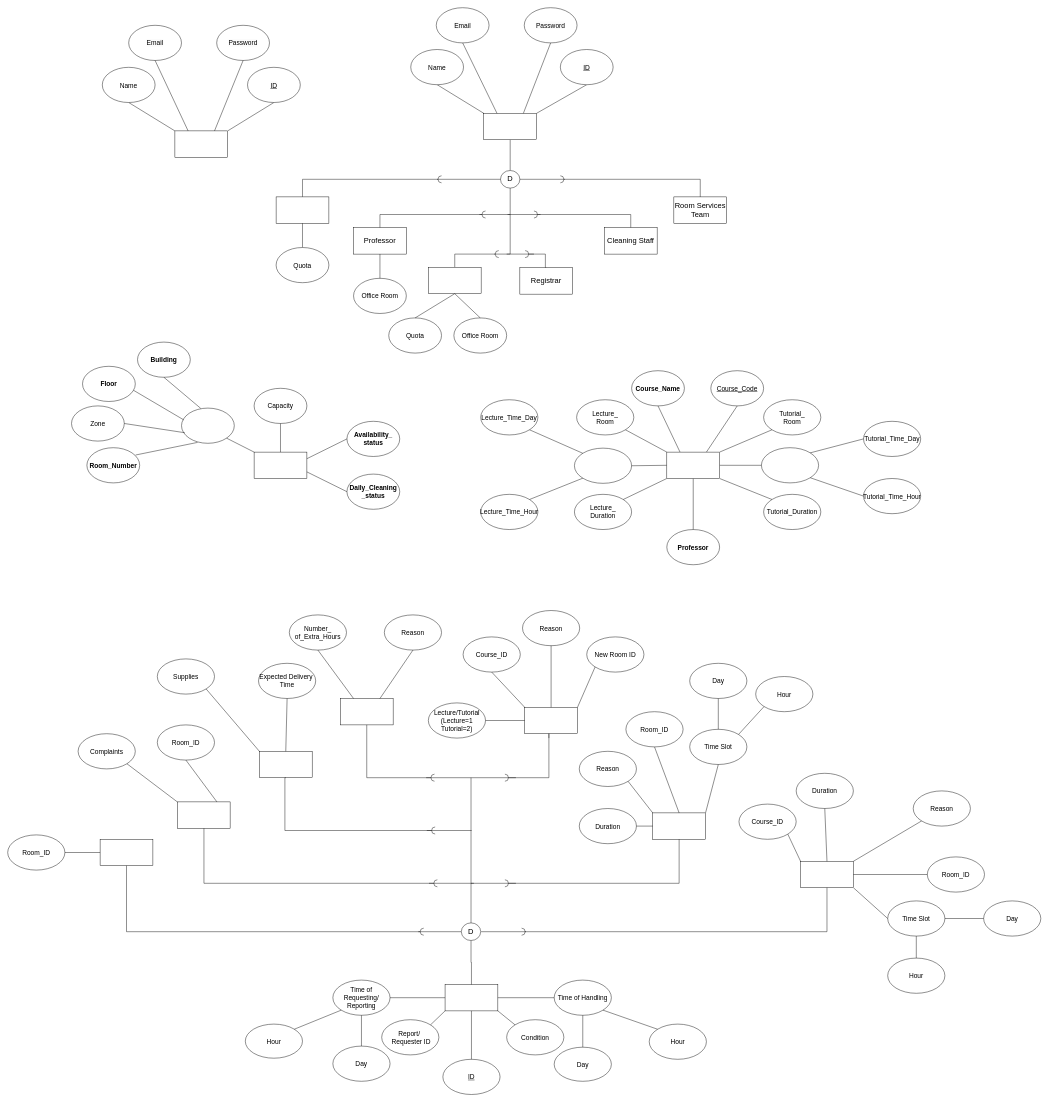
Image size: 1049x1102. Some labels were removed from this diagram. Each missing label, with the centre of its shape:
Additional Quota Request: the point at 366,711
ADMIN: the point at 201,143
Cleaning Request: the point at 126,852
Cleaning Supp. Request: the point at 285,764
Clinic_ Booking_ Request: the point at 826,874
Course: the point at 693,465
Lecture_ Time: the point at 603,465
Report: the point at 203,814
Requests/ Reports: the point at 471,997
ROOM: the point at 280,465
Room Change Request: the point at 551,720
Room_ Booking_ Request: the point at 679,825
Room_Code: the point at 207,425
Student: the point at 302,209
TA: the point at 454,280
Tutorial_ Time: the point at 790,465
User: the point at 510,126
